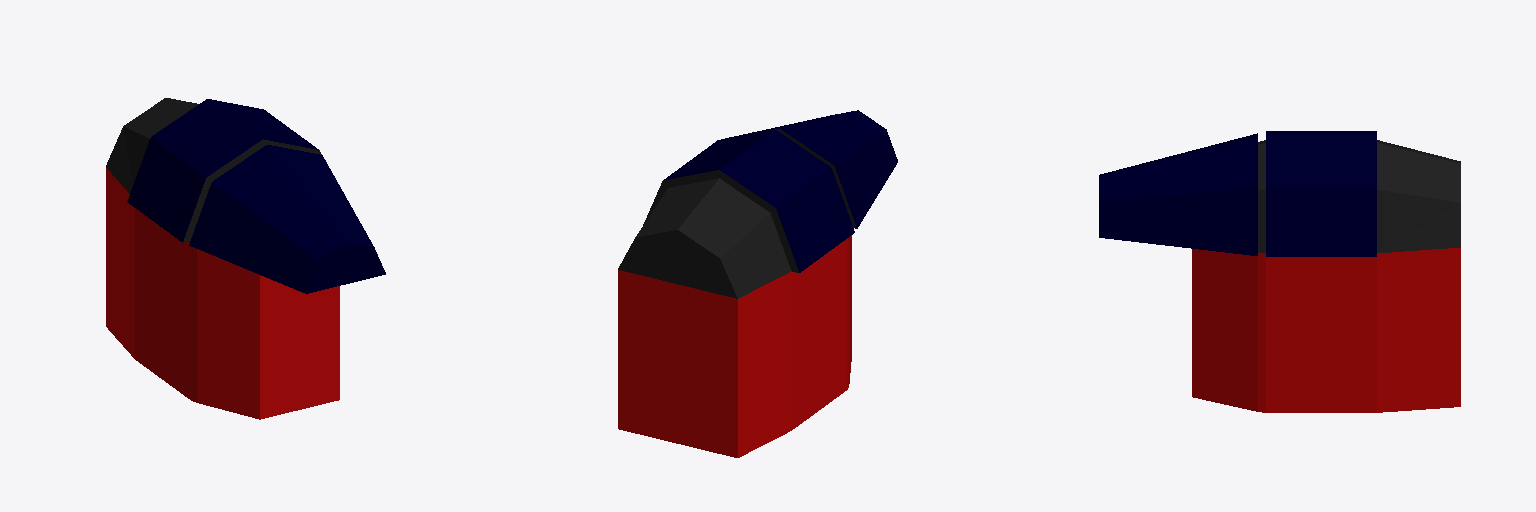
Rendered from Cockpit1_Interior.obj.
3 views of the same model, side by side, from view 1: azimuth 30°, elevation 25°; view 2: azimuth 150°, elevation 25°; view 3: azimuth 270°, elevation 25° (orthographic).
Parts seen in each view (by area): view 1: Cube.000_Cube.001; view 2: Cube.000_Cube.001; view 3: Cube.000_Cube.001.
Part boxes in pixels (bbox=[...]): Cube.000_Cube.001: bbox=[106, 98, 385, 419]; Cube.000_Cube.001: bbox=[618, 110, 897, 457]; Cube.000_Cube.001: bbox=[1099, 131, 1460, 412].
Size of the model in its own units: 1 by 1.45 by 1.95.